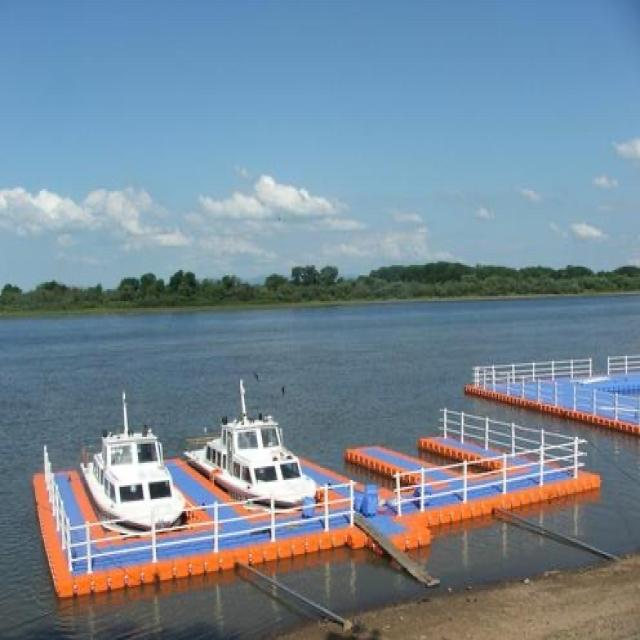houseboat: (193, 402, 322, 503), (81, 411, 188, 526)
